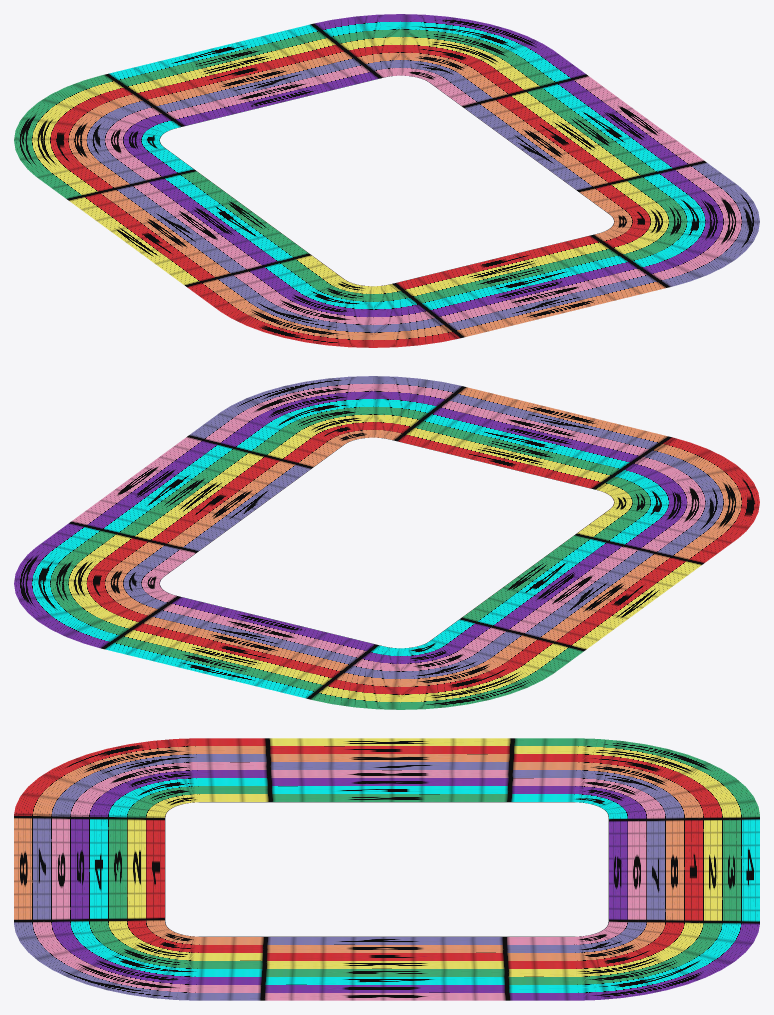
The model's file is Outer.fbx.
3 views of the same model, one above another, from view 1: azimuth 30°, elevation 25°; view 2: azimuth 150°, elevation 25°; view 3: azimuth 270°, elevation 25° (orthographic). The views are drawn at different scales.
Parts seen in each view (by area): view 1: Outer; view 2: Outer; view 3: Outer.
Boxes of the visible parts, x1,y1,x2,y2 form: Outer: [14, 14, 759, 347]; Outer: [14, 376, 759, 709]; Outer: [14, 738, 759, 1000].
Bounding box in the file's own units: 614 × 0.000208 × 738.
